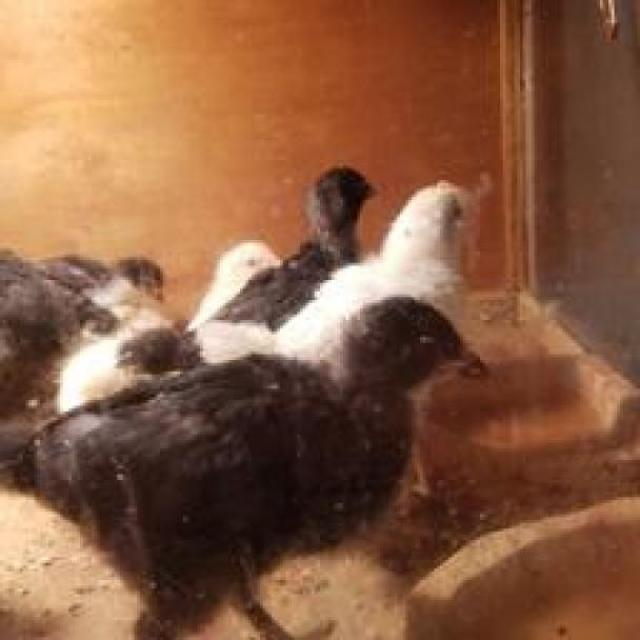Chicken: (24, 297, 477, 640)
